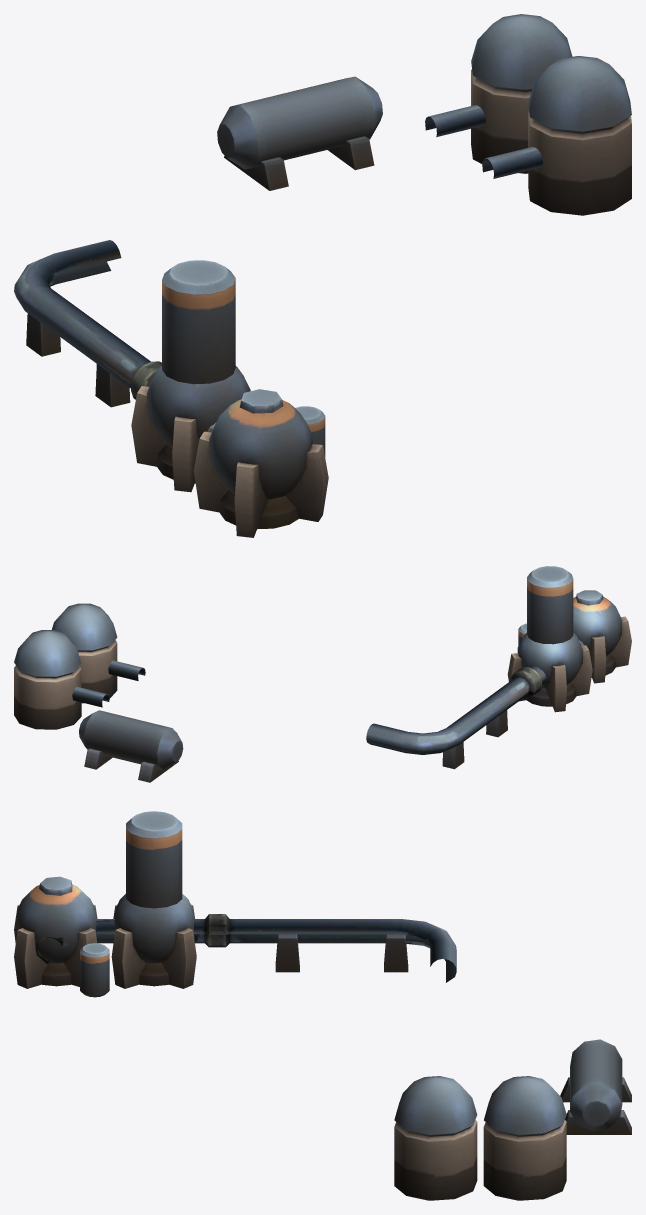
Rendered from OreDrill_addon_clean.fbx.
3 renders of one model, top to bottom at view 1: azimuth 30°, elevation 25°; view 2: azimuth 150°, elevation 25°; view 3: azimuth 270°, elevation 25°, orthographic. The views are drawn at different scales.
Visible parts, largest first — view 1: IceExtractor_Addon; view 2: IceExtractor_Addon; view 3: IceExtractor_Addon.
Boxes of the visible parts, box(x1,y1,x2,y2) form: IceExtractor_Addon: box(14, 14, 631, 537); IceExtractor_Addon: box(14, 566, 631, 782); IceExtractor_Addon: box(14, 811, 631, 1200).
Size of the model in its own units: 191 by 54.08 by 200.
